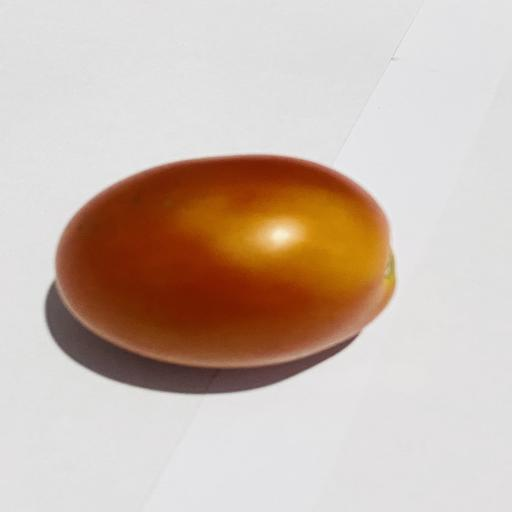ripe: (57, 155, 394, 368)
